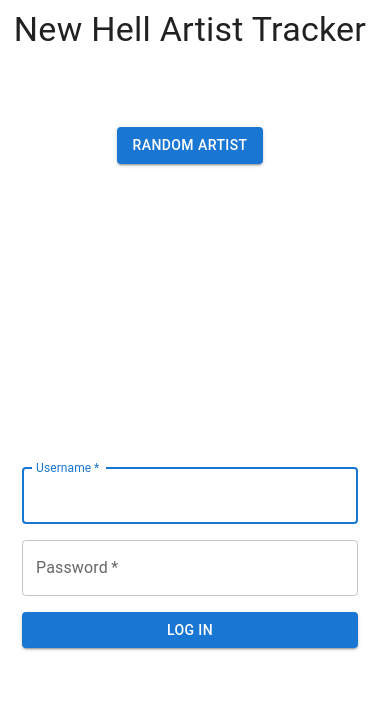
Test: App login failure flow › does not show artist entry form when login fails
Type "baduser" into the field labelled "Username *" at (190, 496), box [22, 468, 358, 524]
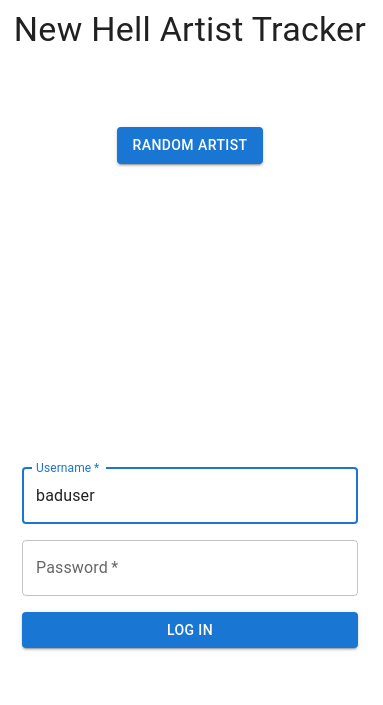
Type "badpass" into the password field labelled "Password *" at (190, 568), box [22, 540, 358, 596]
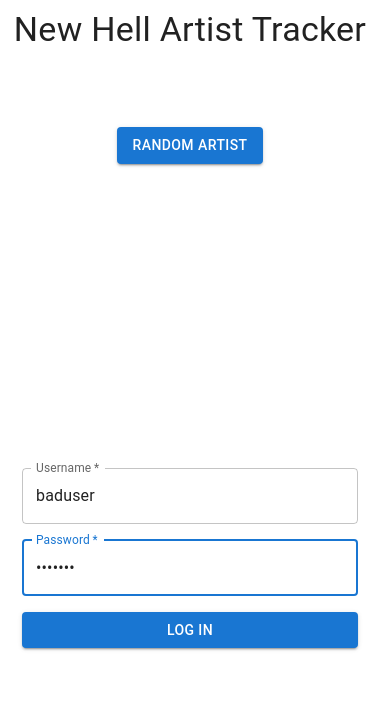
Click the button "Log In" at (190, 630), box [22, 612, 358, 648]
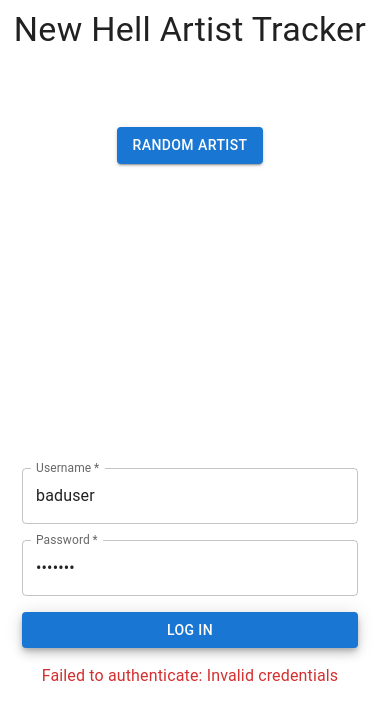
Expected: the text "Failed to authenticate: Invalid credentials" is shown, [42, 664, 338, 688]
